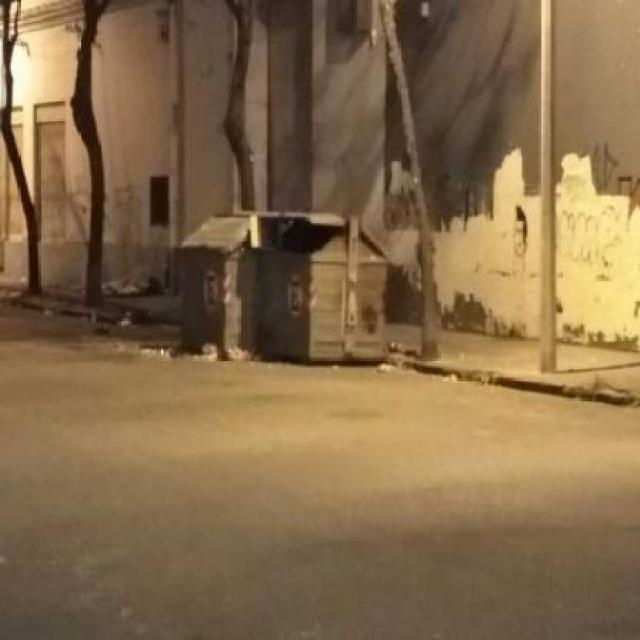garbage: (145, 336, 230, 370), (105, 265, 155, 298)
